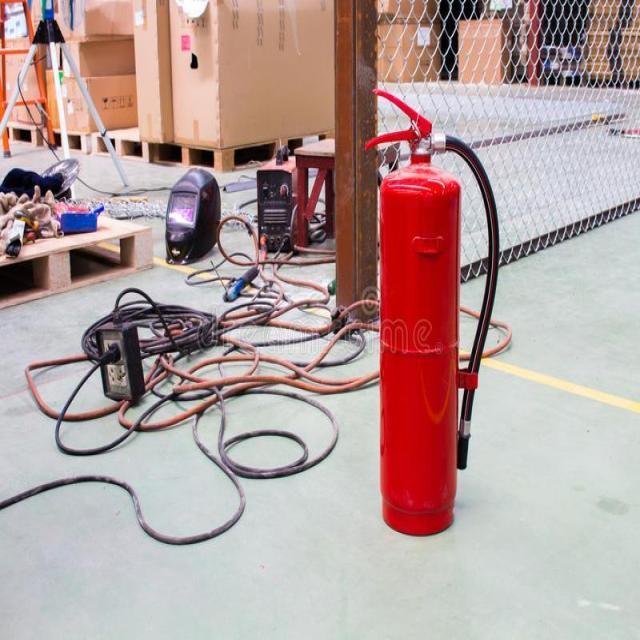fire_extinguisher: (361, 84, 504, 538)
